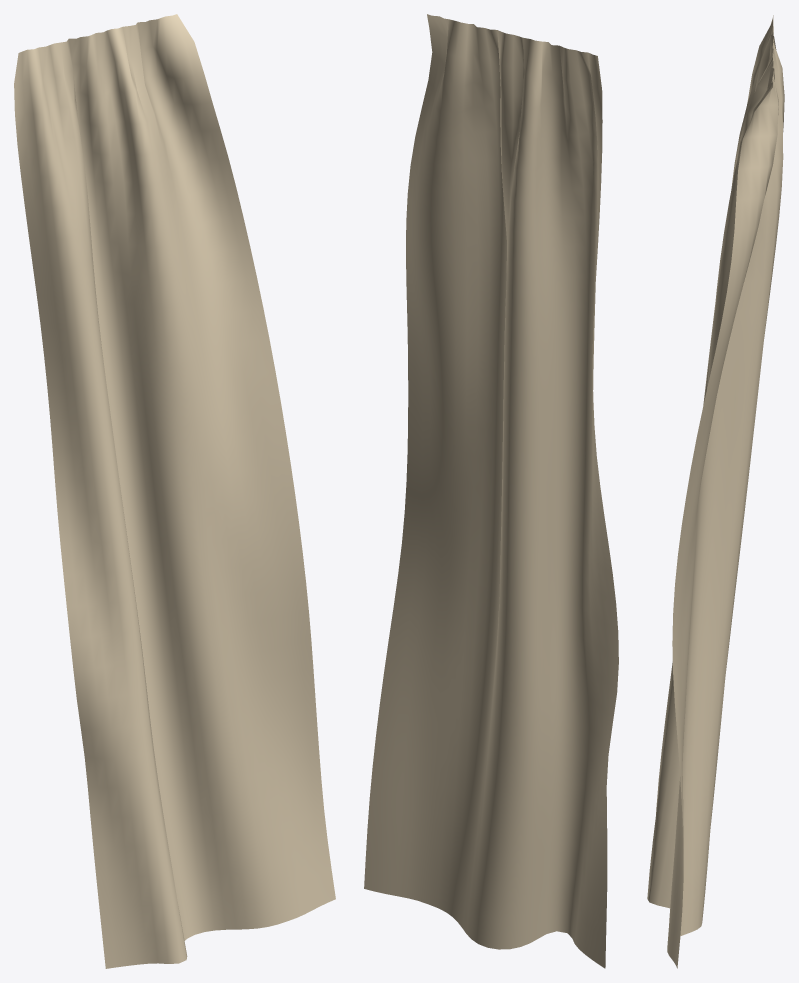
The model's file is AP_CurtainSTATIC_HB.fbx.
3 views of the same model, side by side, from view 1: azimuth 30°, elevation 25°; view 2: azimuth 150°, elevation 25°; view 3: azimuth 270°, elevation 25° (orthographic). The views are drawn at different scales.
Visible parts, largest first — view 1: polySurface4; view 2: polySurface4; view 3: polySurface4.
Boxes of the visible parts, x1=… form: polySurface4: x1=14, y1=14, x2=335, y2=968; polySurface4: x1=364, y1=14, x2=618, y2=968; polySurface4: x1=647, y1=15, x2=784, y2=968.
Size of the model in its own units: 0.7858 by 2.47 by 0.3625.
